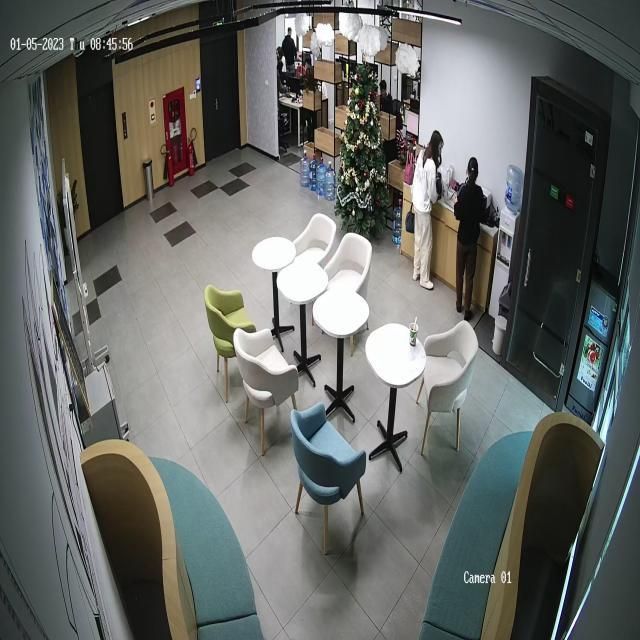person: (453, 157, 488, 318), (412, 129, 445, 290)
